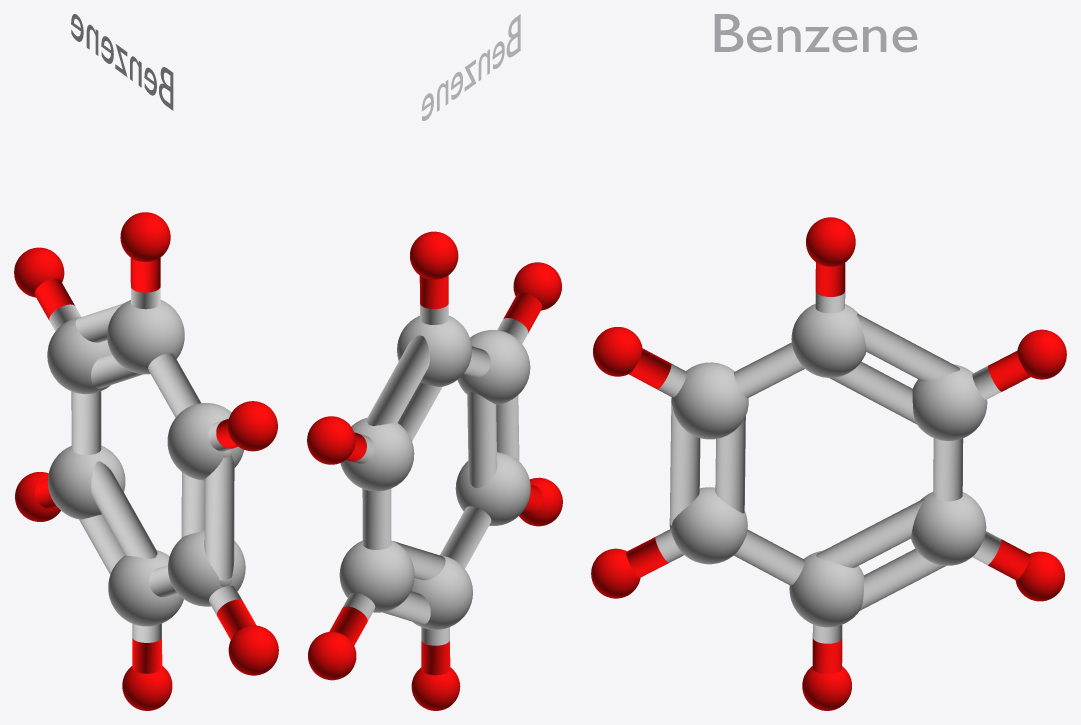
The model's file is benzene.glb.
3 renders of one model, left to right at view 1: azimuth 30°, elevation 25°; view 2: azimuth 150°, elevation 25°; view 3: azimuth 270°, elevation 25°, orthographic. The views are drawn at different scales.
Visible parts, largest first — view 1: Object_3, Object_5, Text.004, Object_4; view 2: Object_3, Object_5, Object_4, Text.004; view 3: Object_3, Object_5, Text.004, Object_4.
Part boxes in pixels (x1,y1,x2,y2): Object_3: (47,287,245,642); Object_5: (14,212,278,710); Text.004: (71,14,173,110); Object_4: (75,303,124,342); Object_3: (339,304,530,645); Object_5: (307,231,562,710); Object_4: (366,335,429,425); Text.004: (421,14,520,120); Object_3: (655,291,1001,643); Object_5: (591,217,1066,710); Text.004: (714,14,917,52); Object_4: (857,313,959,381).
Bounding box in the file's own units: 1.26 × 12.24 × 7.76.
